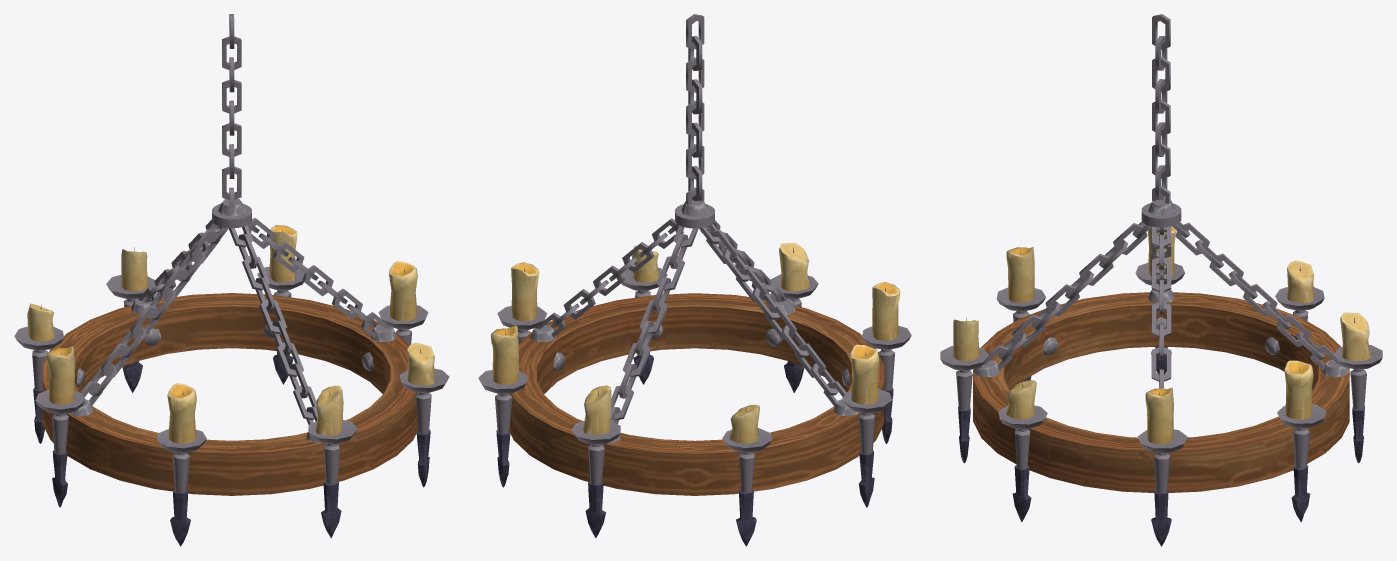
File: Chandelier.glb
3 renders of one model, left to right at view 1: azimuth 30°, elevation 25°; view 2: azimuth 150°, elevation 25°; view 3: azimuth 270°, elevation 25°, orthographic.
Parts seen in each view (by area): view 1: Chandelier; view 2: Chandelier; view 3: Chandelier.
Part boxes in pixels (x1,y1,x2,y2): Chandelier: [14, 14, 449, 546]; Chandelier: [478, 14, 911, 546]; Chandelier: [940, 14, 1382, 546].
Bounding box in the file's own units: 1.3 × 1.46 × 1.3.
Materials: 3 (3 with a texture image).
